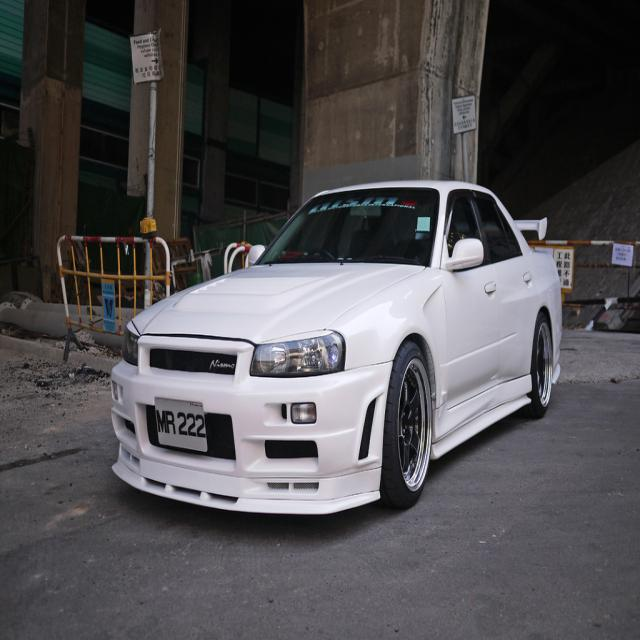car: (107, 175, 561, 516)
